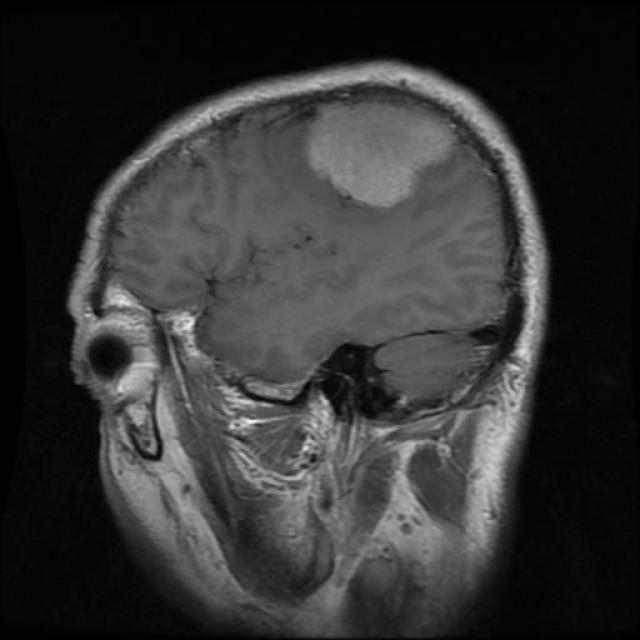meningioma: (306, 98, 458, 208)
